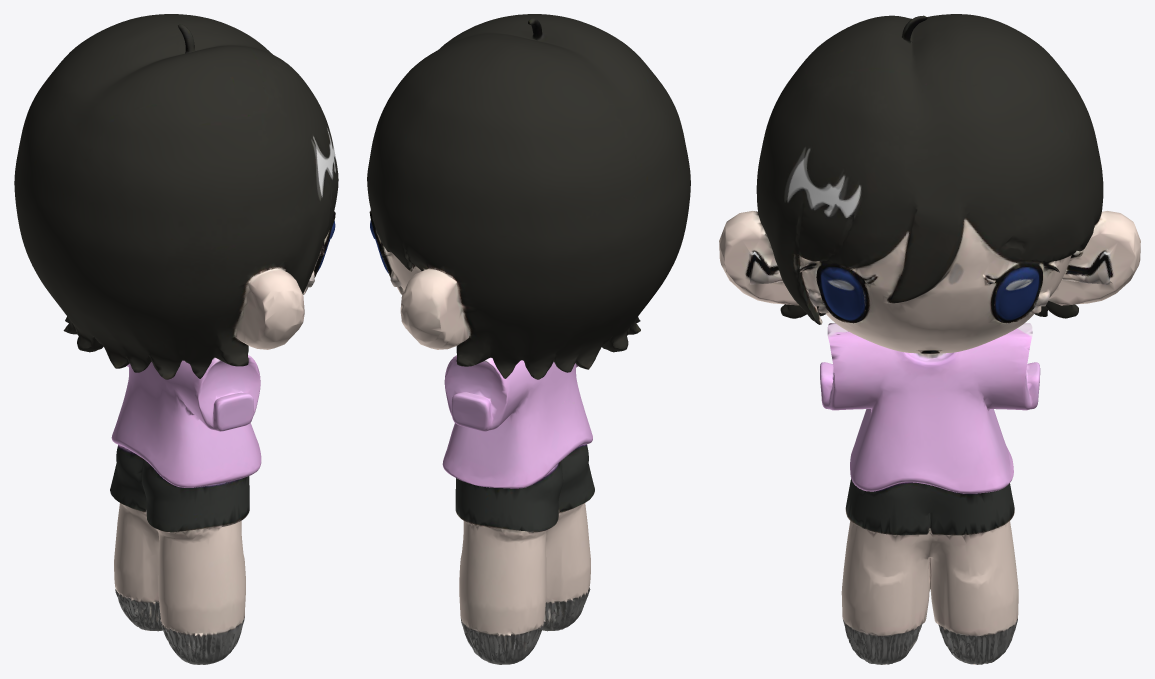
The model's file is hanbi.glb.
3 renders of one model, left to right at view 1: azimuth 30°, elevation 25°; view 2: azimuth 150°, elevation 25°; view 3: azimuth 270°, elevation 25°, orthographic. The views are drawn at different scales.
Parts seen in each view (by area): view 1: tripo_node_9e15c7f7-1801-4510-b4b0-6d78ad276f28; view 2: tripo_node_9e15c7f7-1801-4510-b4b0-6d78ad276f28; view 3: tripo_node_9e15c7f7-1801-4510-b4b0-6d78ad276f28.
Part boxes in pixels (box(x1,y1,x2,y2)): tripo_node_9e15c7f7-1801-4510-b4b0-6d78ad276f28: box(14, 14, 338, 664); tripo_node_9e15c7f7-1801-4510-b4b0-6d78ad276f28: box(367, 14, 690, 664); tripo_node_9e15c7f7-1801-4510-b4b0-6d78ad276f28: box(719, 14, 1140, 664).
Bounding box in the file's own units: 0.4682 × 0.9999 × 0.5972.
1 material, 1 textured.
